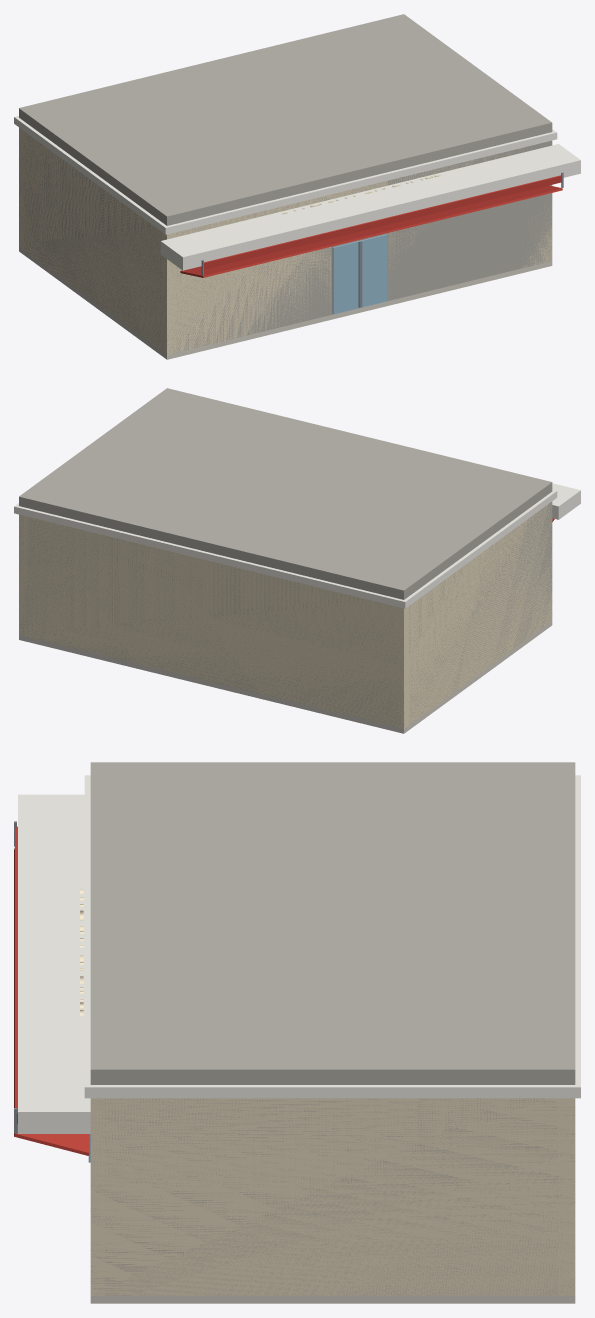
File: BLD_Diner.fbx
3 views of the same model, one above another, from view 1: azimuth 30°, elevation 25°; view 2: azimuth 150°, elevation 25°; view 3: azimuth 270°, elevation 25° (orthographic). The views are drawn at different scales.
Parts seen in each view (by area): view 1: BLD_Diner__BODY, BLD_Diner__COL_Main; view 2: BLD_Diner__BODY, BLD_Diner__COL_Main; view 3: BLD_Diner__BODY, BLD_Diner__COL_Main.
Boxes of the visible parts, <box> form: BLD_Diner__BODY: <box>14,14,580,359</box>; BLD_Diner__COL_Main: <box>19,109,552,353</box>; BLD_Diner__BODY: <box>14,388,580,733</box>; BLD_Diner__COL_Main: <box>19,483,552,728</box>; BLD_Diner__BODY: <box>14,762,580,1303</box>; BLD_Diner__COL_Main: <box>90,1069,575,1295</box>.
Bounding box in the file's own units: 15.5 × 5.33 × 11.7.
